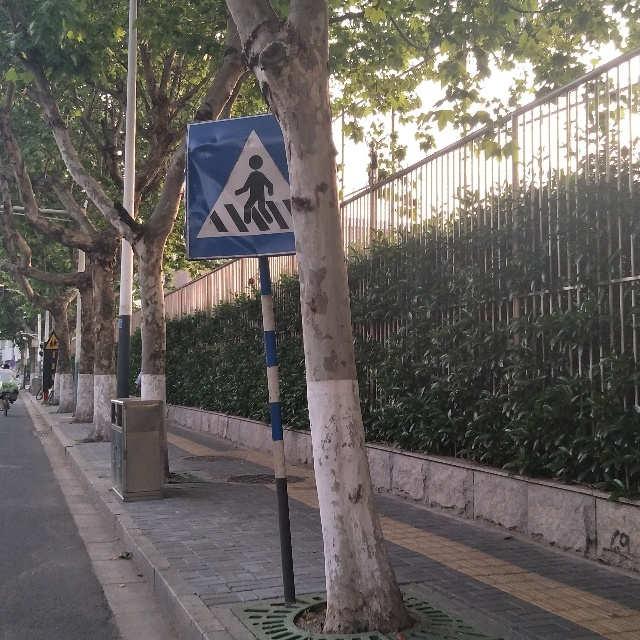crosswalk: (195, 127, 297, 251)
